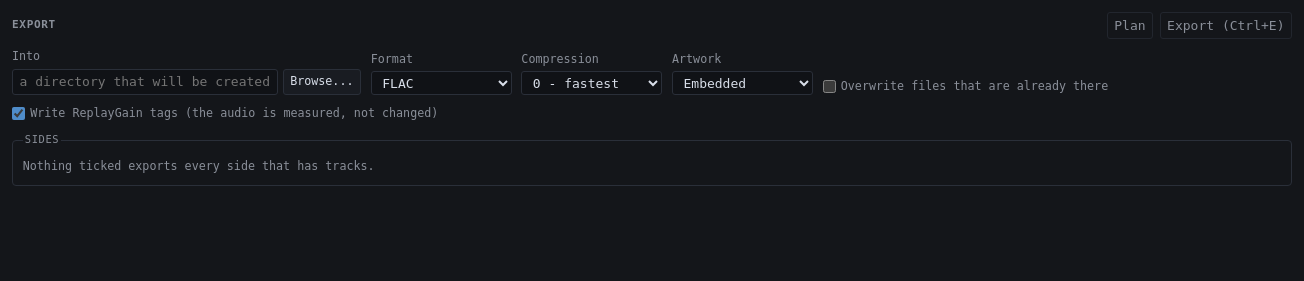
it: the export panel › browses the host's directories when the window is somewhere else
Click the button "Browse...": [322, 82] box [283,69,361,95]
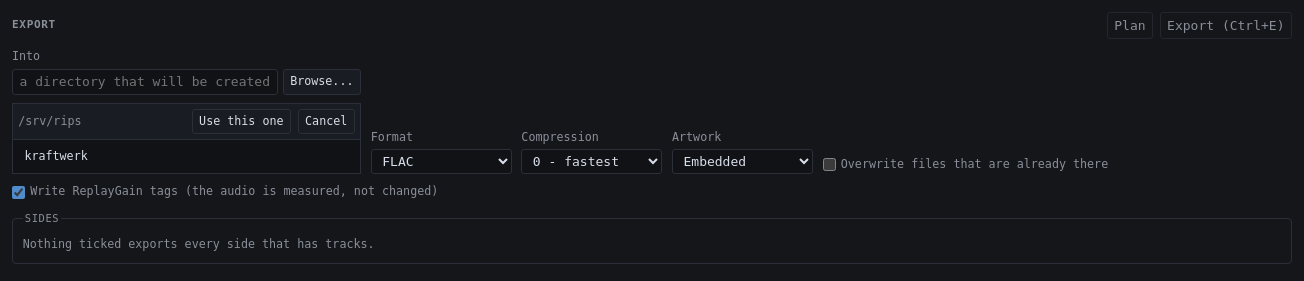
Check: the text "kraftwerk" is shown
Click the button "kraftwerk": [56, 156] box [17,144,356,169]
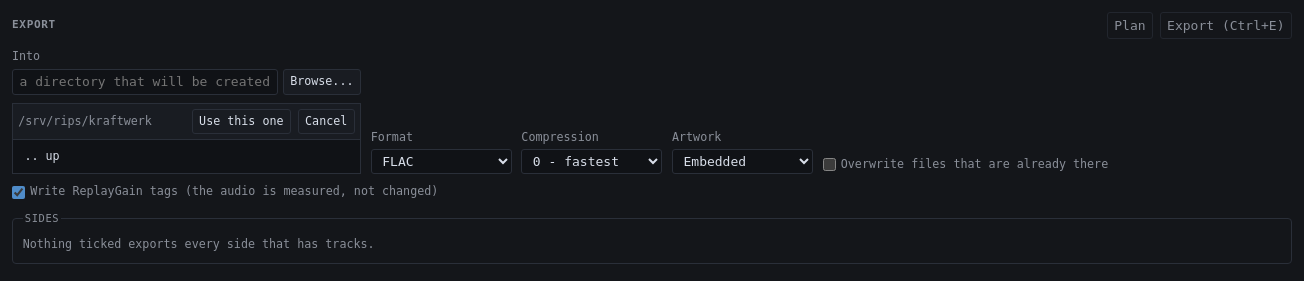
Click the button "Use this one": [241, 122] box [192,109,291,134]
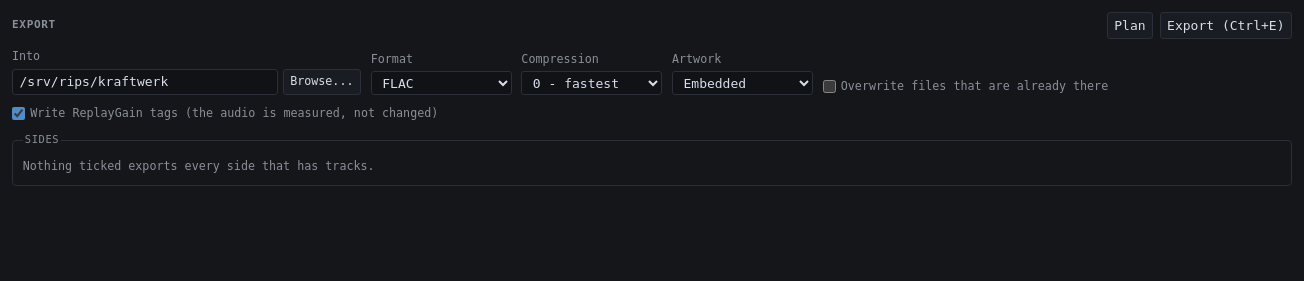
Check: the field with class "wide" holds "/srv/rips/kraftwerk", box [12,69,278,95]
Check: the element with class "directories" is gone
